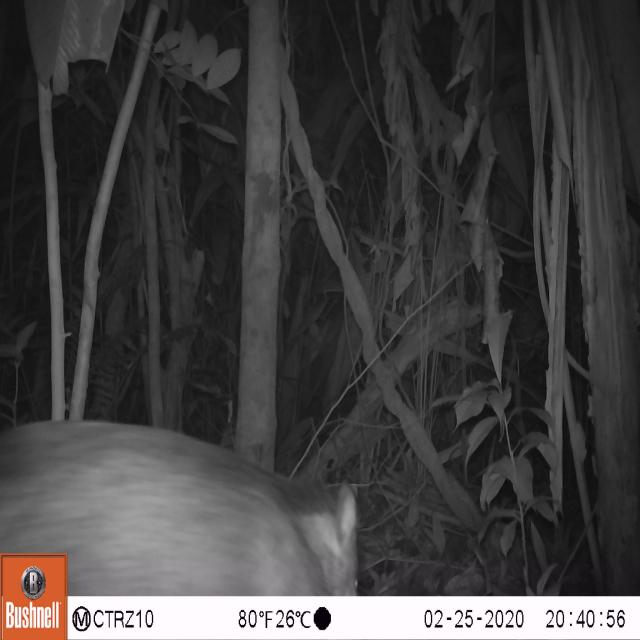Collared Peccary: (2, 413, 362, 595)
